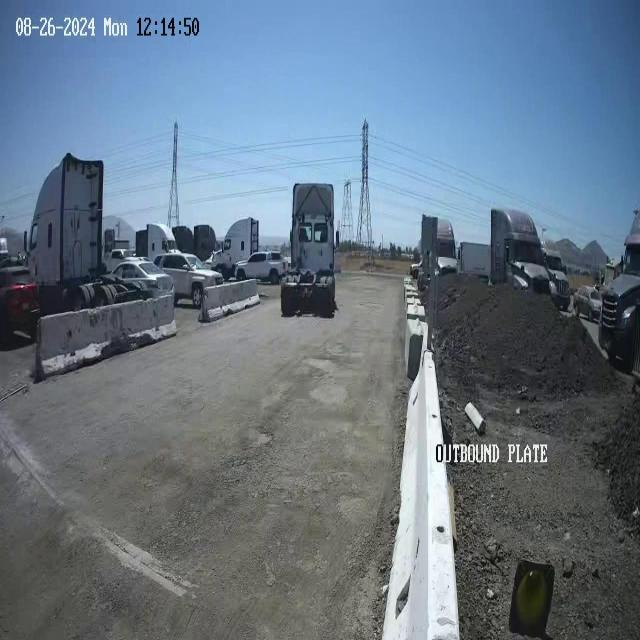BOBTAIL: (280, 182, 337, 318)
